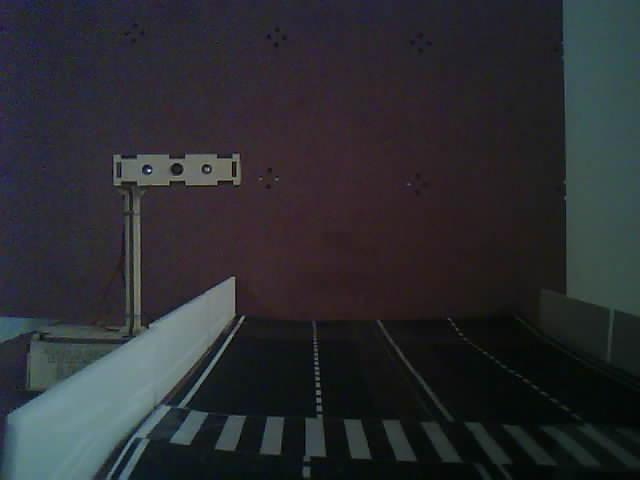crosswalk: (118, 374, 639, 480)
no: (97, 145, 287, 350)
